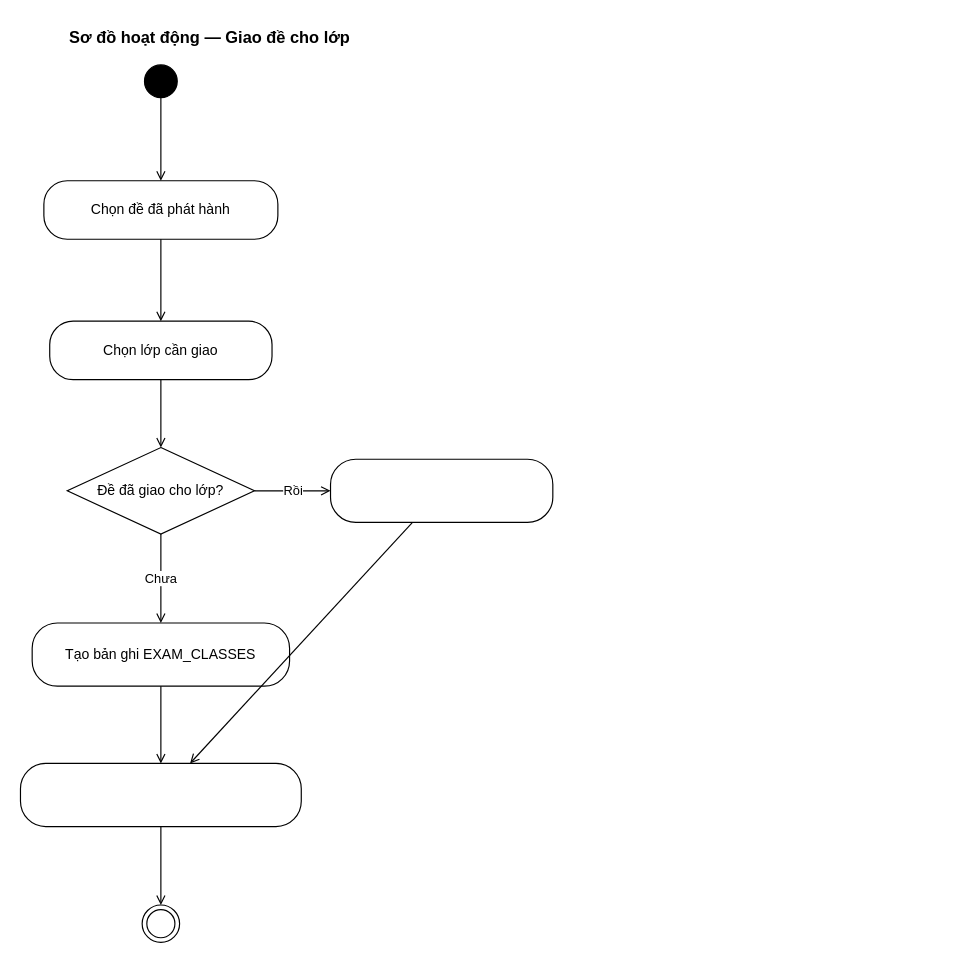
This 977x963 diagram has some shape labels left out. Each missing label, with the centre of its shape:
SV trong lớp thấy đề được giao: the point at 160,794
Thông báo đã giao trước đó: the point at 441,490
